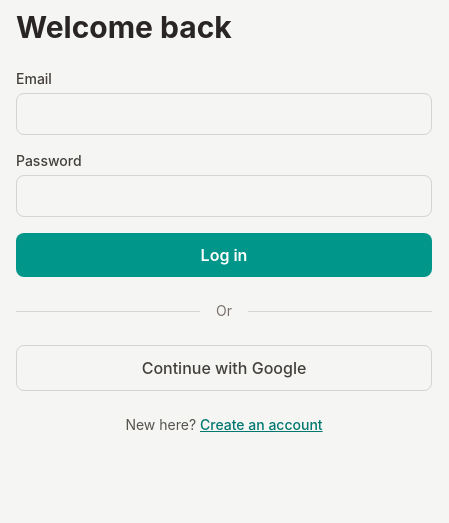
it: LoginPage › shows an error on bad credentials
Type "a@b.com" into the field labelled "Email" at (224, 114), box 16,93 -> 432,135
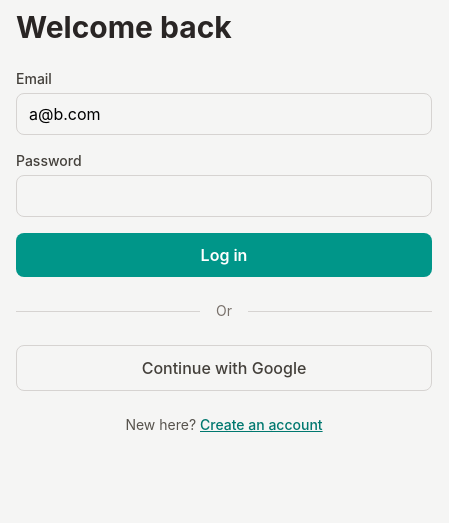
Type "secret1" into the password field labelled "Password" at (224, 196), box 16,175 -> 432,217
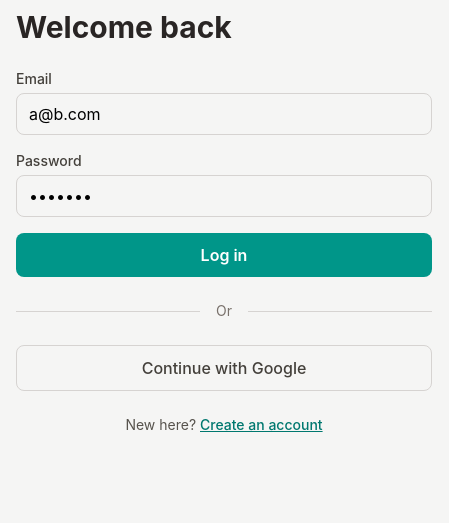
Click the button "Log in" at (224, 255), box 16,233 -> 432,277
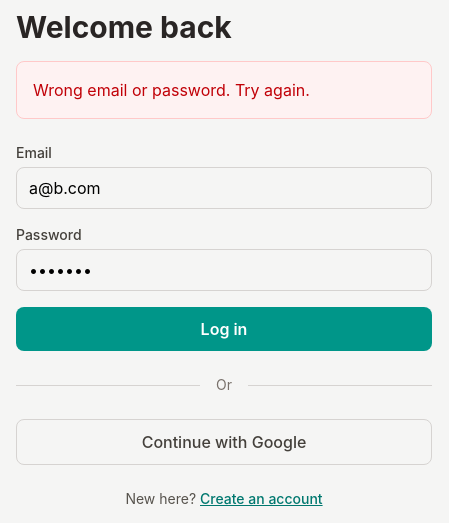
Result: the text "Wrong email or password. Try again." is shown at 16,61 -> 432,119
